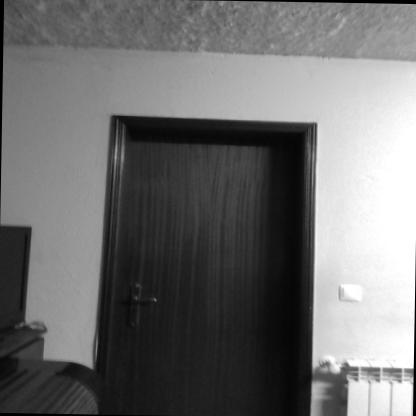closed: (85, 96, 327, 416)
